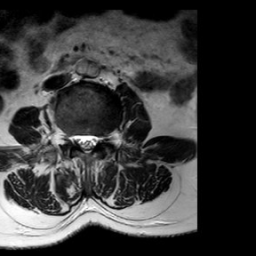CCS_normal: (82, 123, 90, 161)
LFS_stenosis: (98, 124, 107, 149)
LLS_normal: (90, 123, 98, 155)
RFS_normal: (65, 122, 73, 153)
RLS_normal: (73, 125, 82, 153)
